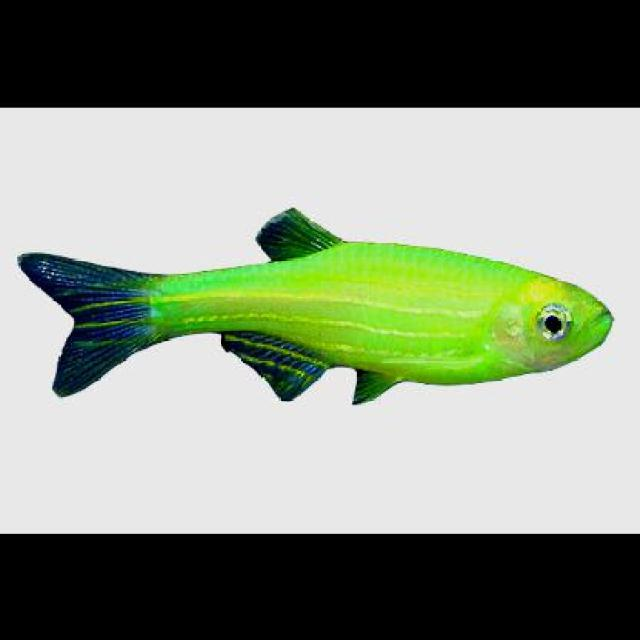ZebraFish: (16, 202, 612, 404)
